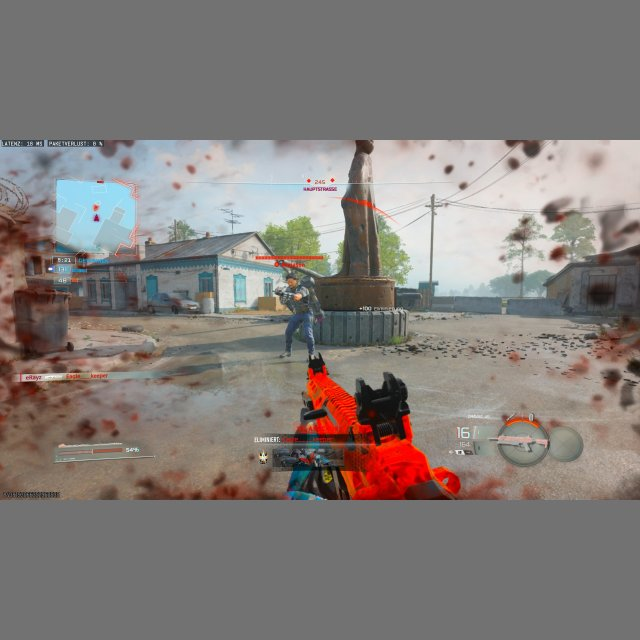head: (286, 273, 298, 287)
player: (274, 273, 317, 361)
